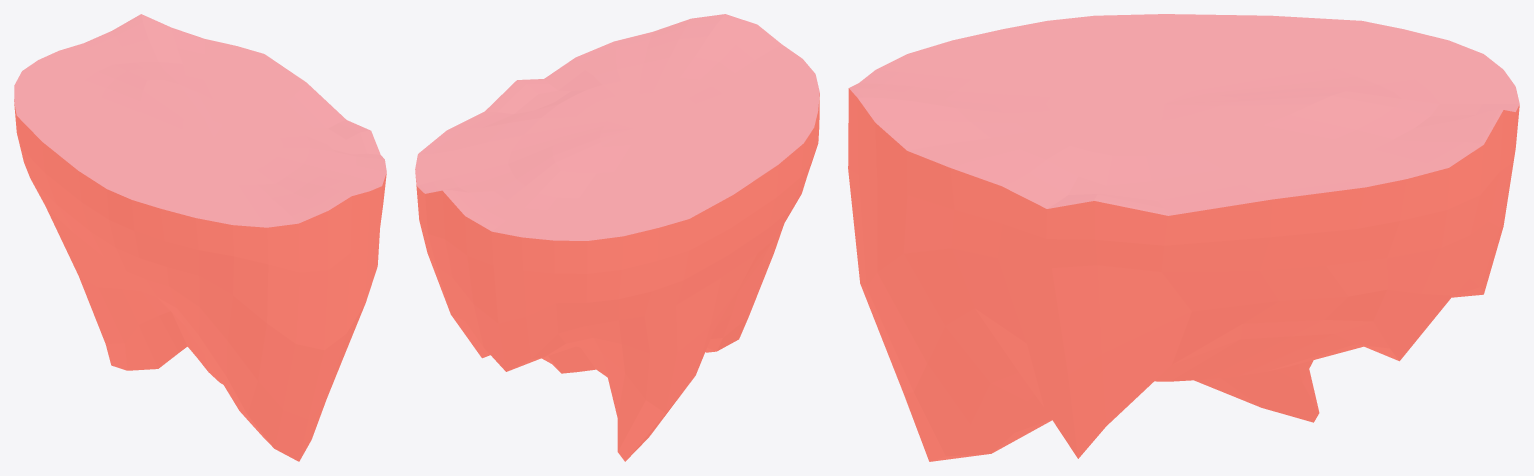
Rendered from terrain_type_02.glb.
3 renders of one model, left to right at view 1: azimuth 30°, elevation 25°; view 2: azimuth 150°, elevation 25°; view 3: azimuth 270°, elevation 25°, orthographic. The views are drawn at different scales.
Visible parts, largest first — view 1: Environnement; view 2: Environnement; view 3: Environnement.
Boxes of the visible parts, left/top/right/bottom form: Environnement: left=14, top=14, right=386, bottom=461; Environnement: left=415, top=14, right=819, bottom=461; Environnement: left=848, top=14, right=1519, bottom=461.
Bounding box in the file's own units: 1 × 1 × 1.57.
